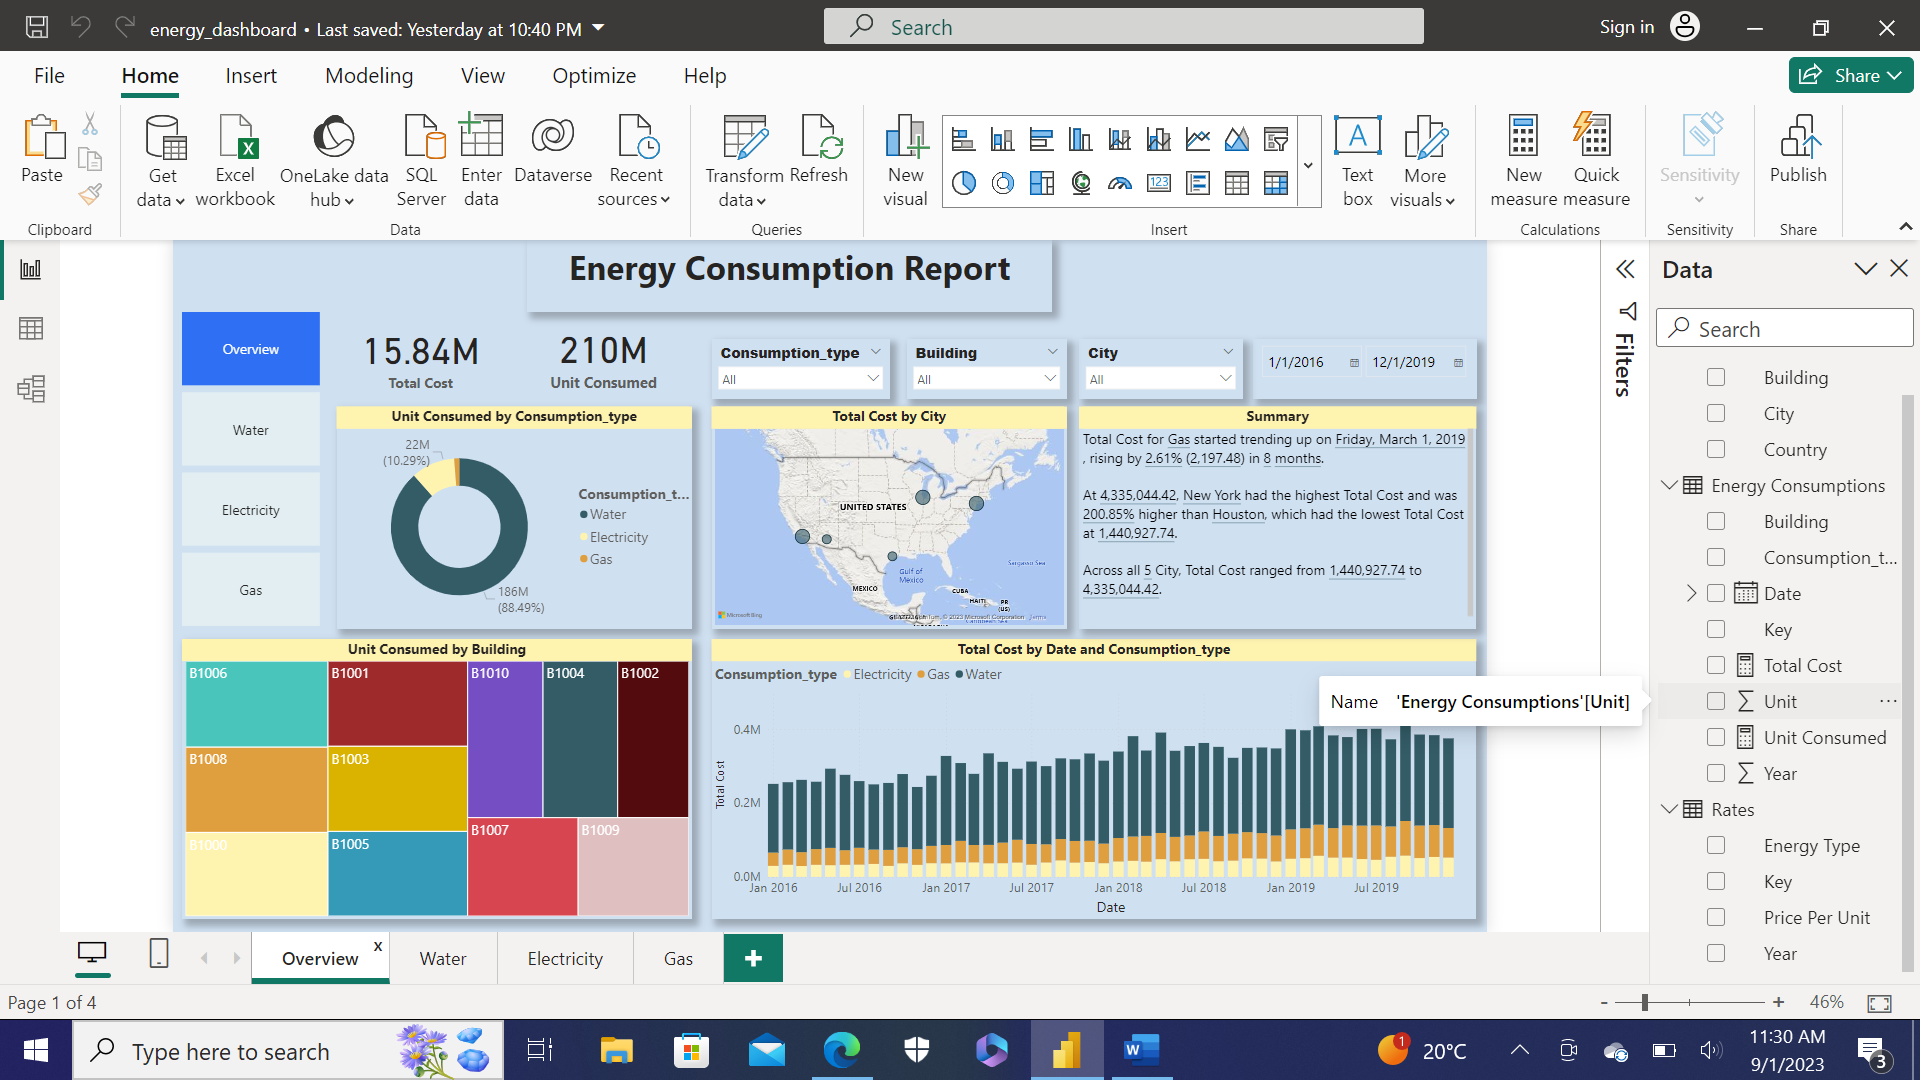

The dashboard page shown, as its layout file describes it:
{"tool":"powerbi","page":{"name":"Overview","canvas":[1900,1000],"ordinal":0},"visuals":[{"type":"actionButton","title":"Energy Consumption Report","box":[511.9,0,759.2,104.1],"z":0},{"type":"card","fields":{"Values":["Energy Consumptions.Total Cost"]},"box":[236.4,104.1,243,123.6],"z":1000},{"type":"card","fields":{"Values":["Energy Consumptions.Unit Consumed"]},"box":[494.6,104.1,256,123.6],"z":2000},{"type":"slicer","fields":{"Values":["Energy Consumptions.Consumption_type"]},"box":[778.7,143.2,258.1,86.8],"z":3000},{"type":"slicer","fields":{"Values":["Energy Consumptions.Building"]},"box":[1060.7,143.2,232.1,86.8],"z":4000},{"type":"slicer","fields":{"Values":["Building Master.City"]},"box":[1310.2,143.2,236.4,86.8],"z":5000},{"type":"slicer","fields":{"Values":["Energy Consumptions.Date"]},"box":[1561.8,143.2,323.2,86.8],"z":6000},{"type":"map","fields":{"Category":["Building Master.City"],"Size":["Energy Consumptions.Total Cost"]},"box":[778.7,240.8,514.1,321],"z":7000},{"type":"columnChart","fields":{"Y":["Energy Consumptions.Total Cost"],"Series":["Energy Consumptions.Consumption_type"],"Category":["Energy Consumptions.Date"]},"box":[778.7,577,1106.3,405.6],"z":8000},{"type":"textbox","title":"Summary","box":[1310.2,240.8,574.8,321],"z":9000},{"type":"donutChart","fields":{"Y":["Energy Consumptions.Unit Consumed"],"Category":["Energy Consumptions.Consumption_type"]},"box":[236,240,516,322],"z":10000},{"type":"treemap","fields":{"Values":["Energy Consumptions.Unit Consumed"],"Group":["Energy Consumptions.Building"]},"box":[13,577,737.5,405.6],"z":11000},{"type":"shape","box":[13,80.3,223.4,481.6],"z":12000},{"type":"pageNavigator","box":[13,104.1,199.6,457.7],"z":13000}]}

Visuals, with their boxes on the page's 1900x1000 design canvas (x1, y1, x2, y2). These are canvas units, not pixel positions in the 1920x1080 screenshot, which may show the page scaled, cropped or inside an application window:
"Energy Consumption Report" actionButton: x1=512 y1=0 x2=1271 y2=104
card - Energy Consumptions.Total Cost: x1=236 y1=104 x2=479 y2=228
card - Energy Consumptions.Unit Consumed: x1=495 y1=104 x2=751 y2=228
slicer - Energy Consumptions.Consumption_type: x1=779 y1=143 x2=1037 y2=230
slicer - Energy Consumptions.Building: x1=1061 y1=143 x2=1293 y2=230
slicer - Building Master.City: x1=1310 y1=143 x2=1547 y2=230
slicer - Energy Consumptions.Date: x1=1562 y1=143 x2=1885 y2=230
map - Building Master.City x Energy Consumptions.Total Cost: x1=779 y1=241 x2=1293 y2=562
columnChart - Energy Consumptions.Total Cost x Energy Consumptions.Consumption_type: x1=779 y1=577 x2=1885 y2=983
"Summary" textbox: x1=1310 y1=241 x2=1885 y2=562
donutChart - Energy Consumptions.Unit Consumed x Energy Consumptions.Consumption_type: x1=236 y1=240 x2=752 y2=562
treemap - Energy Consumptions.Unit Consumed x Energy Consumptions.Building: x1=13 y1=577 x2=750 y2=983
shape: x1=13 y1=80 x2=236 y2=562
pageNavigator: x1=13 y1=104 x2=213 y2=562
